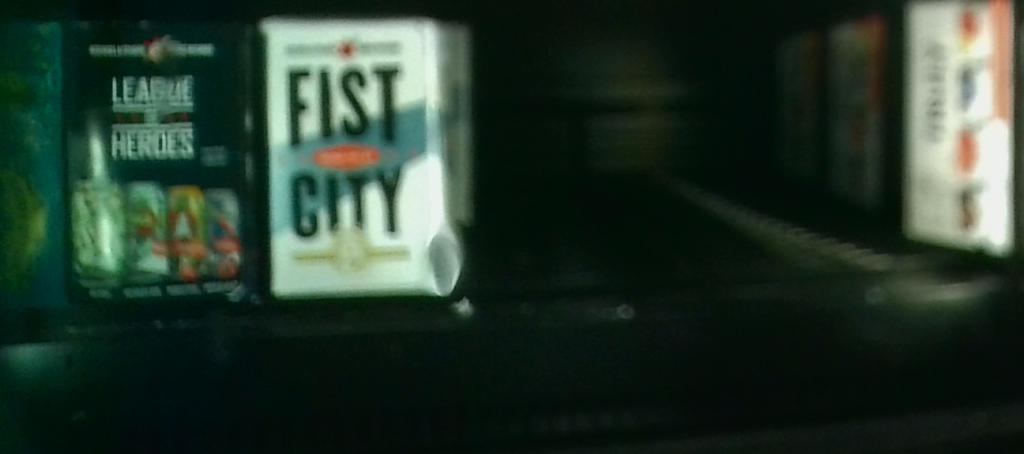bottle: (61, 13, 264, 315), (267, 9, 465, 301)
